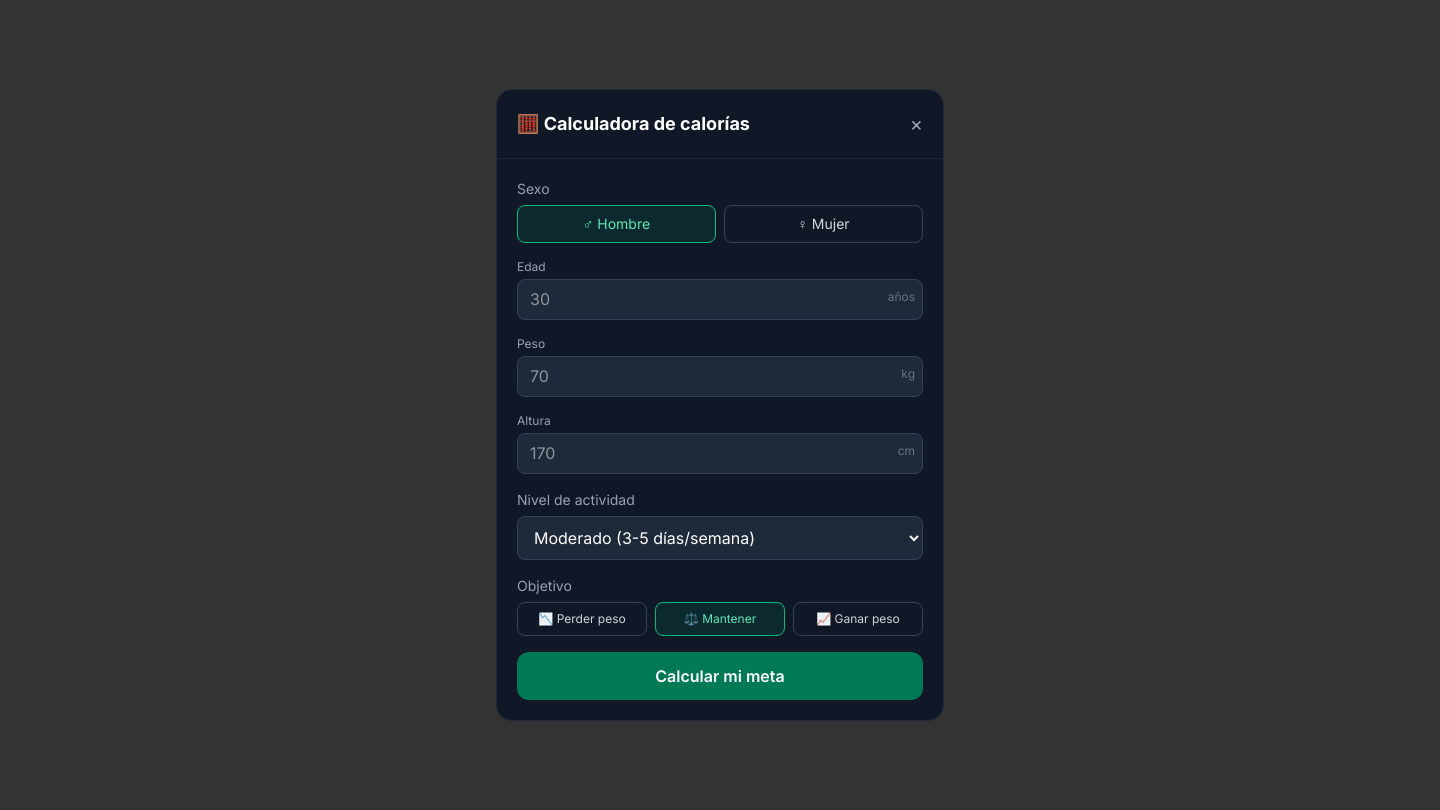
CalorieCalculator › calculates correctly for female sex
Click the female radio label
Click the text "♀ Mujer". click: (824, 224)
box: x1=724 y1=205 x2=923 y2=243
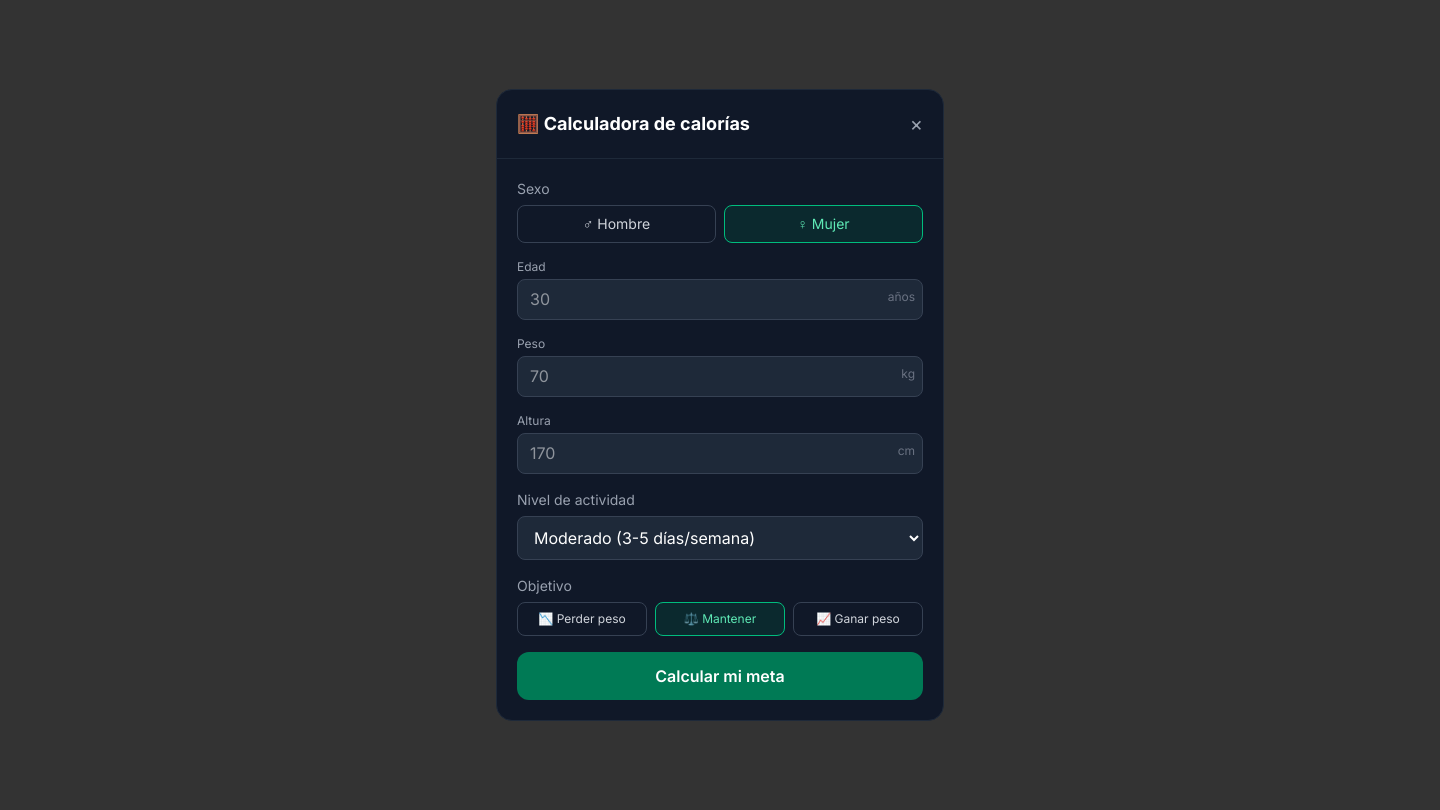
Type "25" into the number field labelled "Edad". click: (720, 300)
box: x1=517 y1=279 x2=923 y2=320
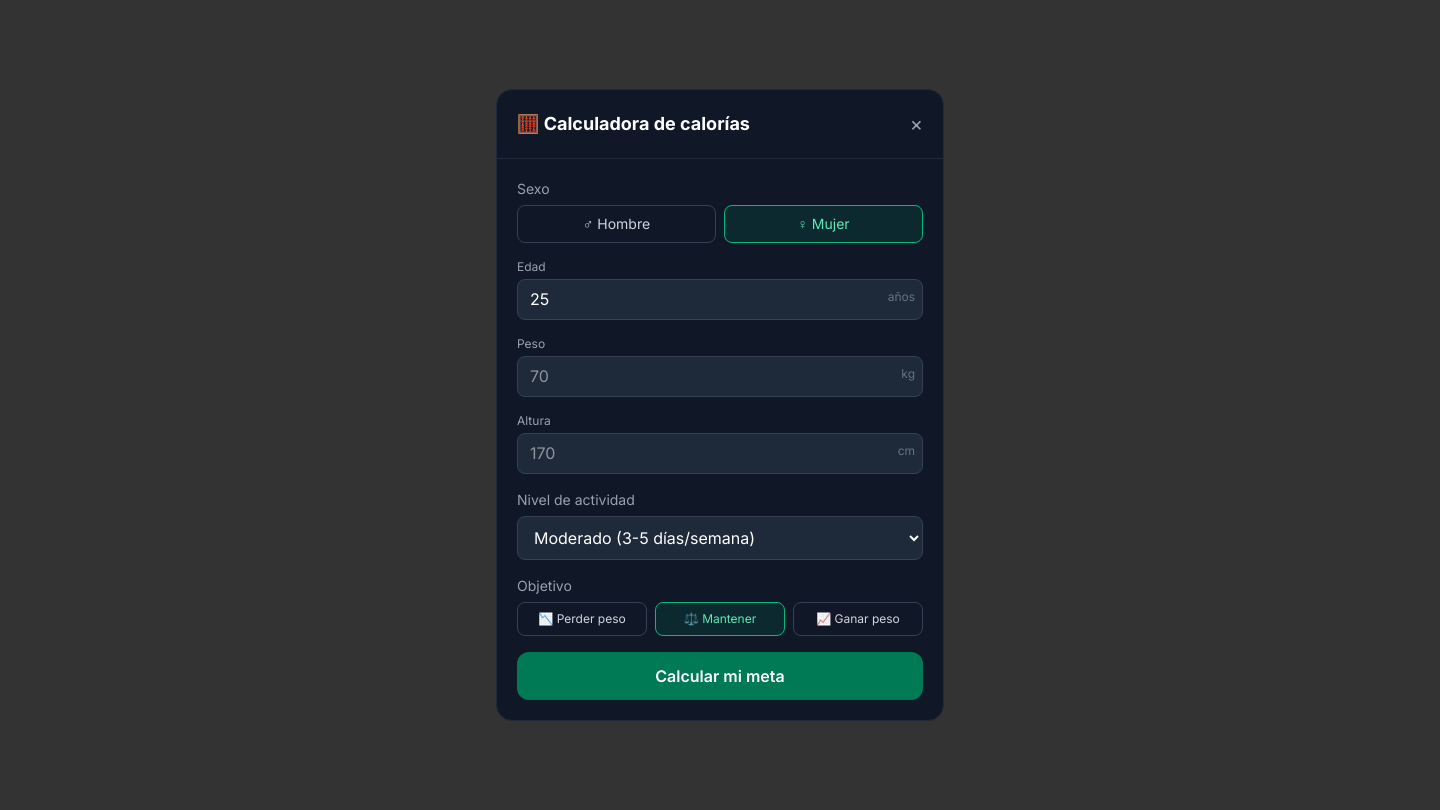
Type "60" into the number field labelled "Peso". click: (720, 376)
box: x1=517 y1=356 x2=923 y2=397
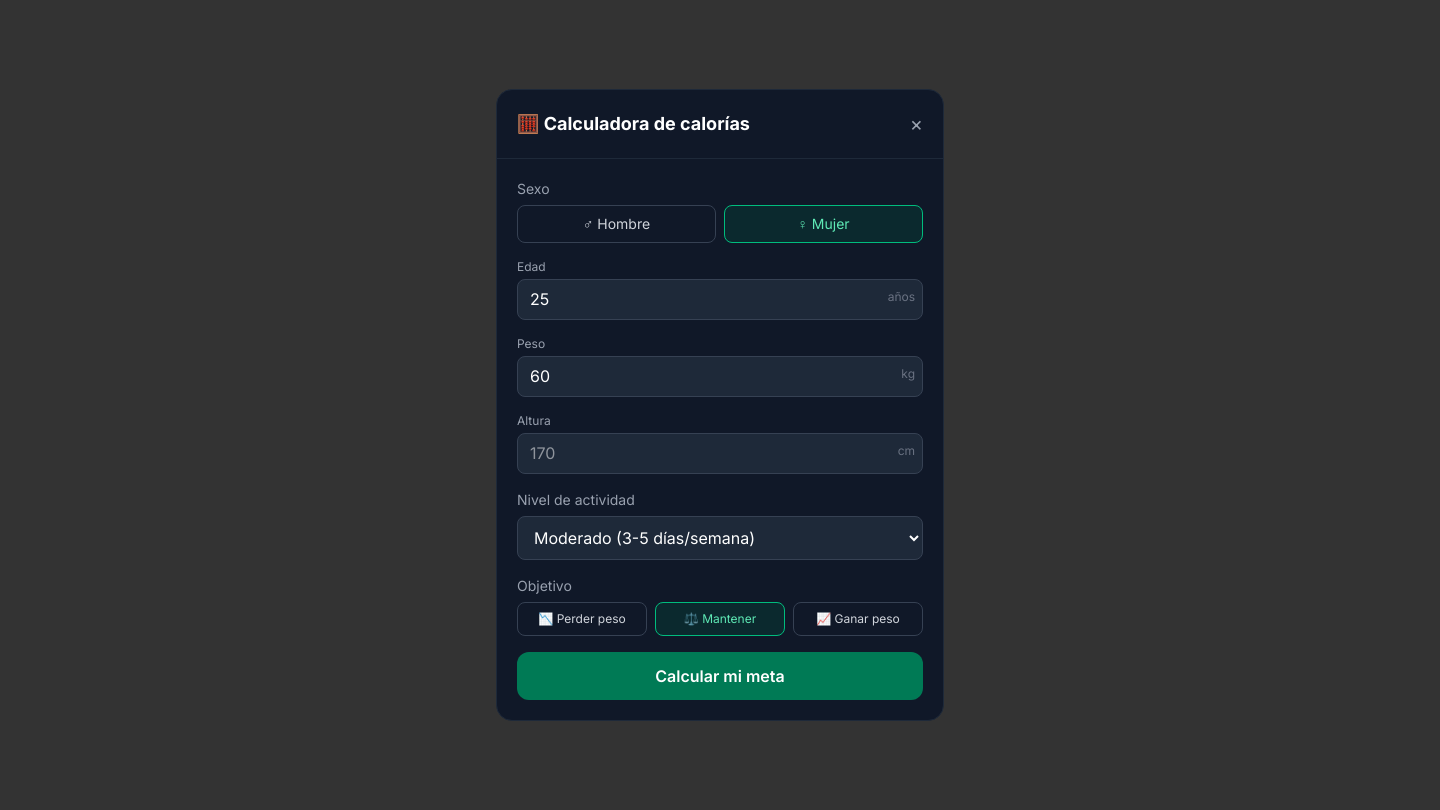
Type "165" into the number field labelled "Altura". click: (720, 453)
box: x1=517 y1=433 x2=923 y2=474
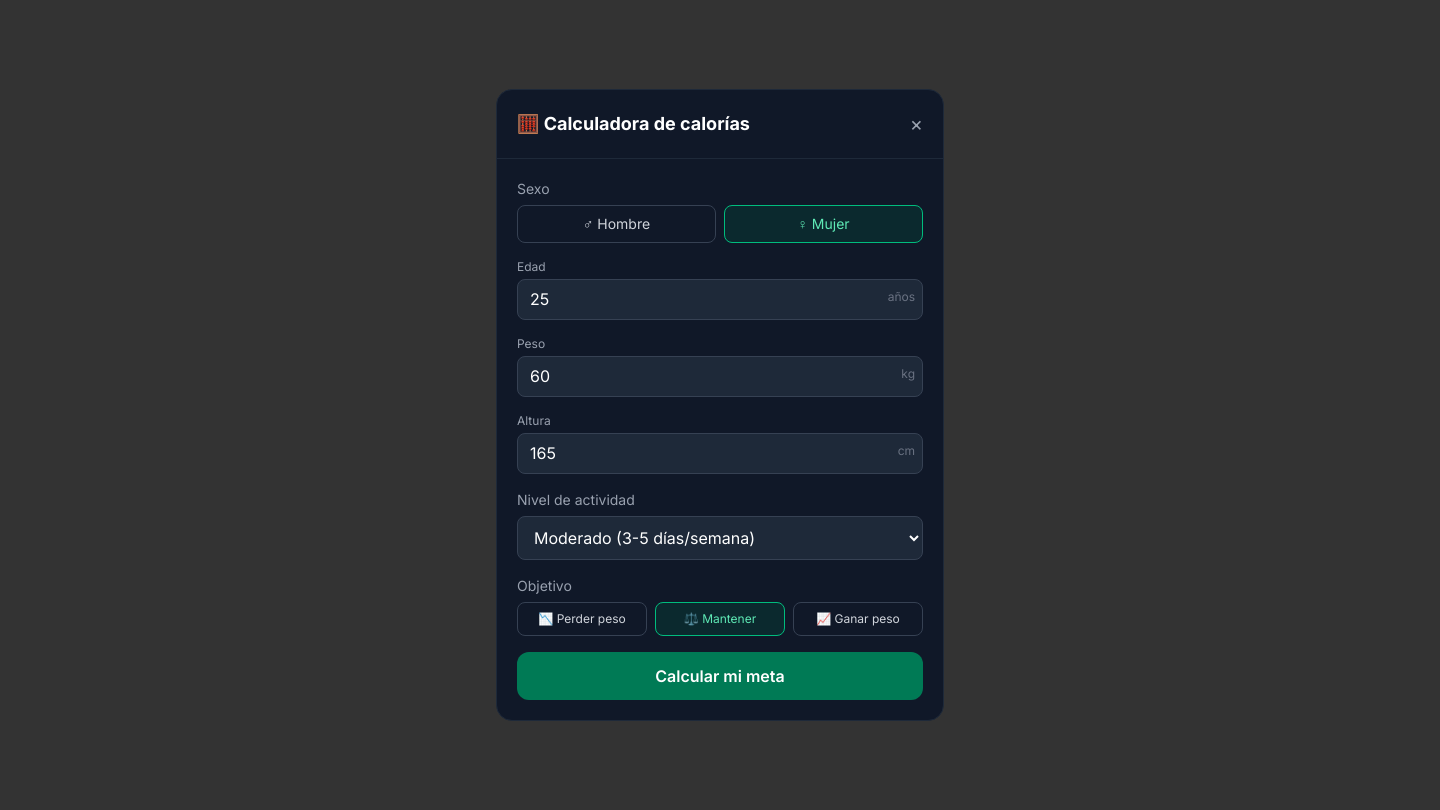
Click the button "Calcular mi meta". click: (720, 676)
box: x1=517 y1=652 x2=923 y2=700
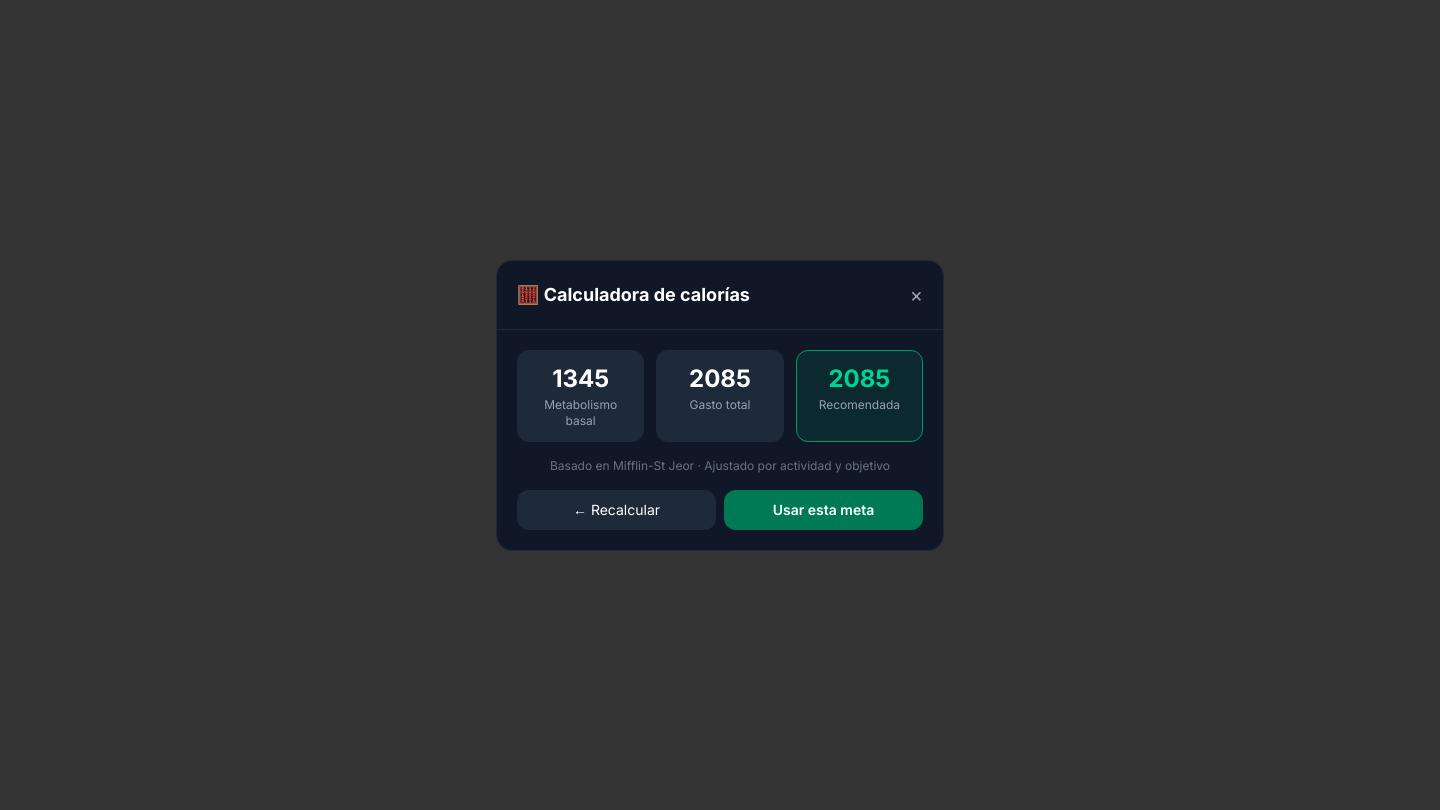
Result: the text "Metabolismo basal" is shown at x1=544 y1=396 x2=617 y2=428
